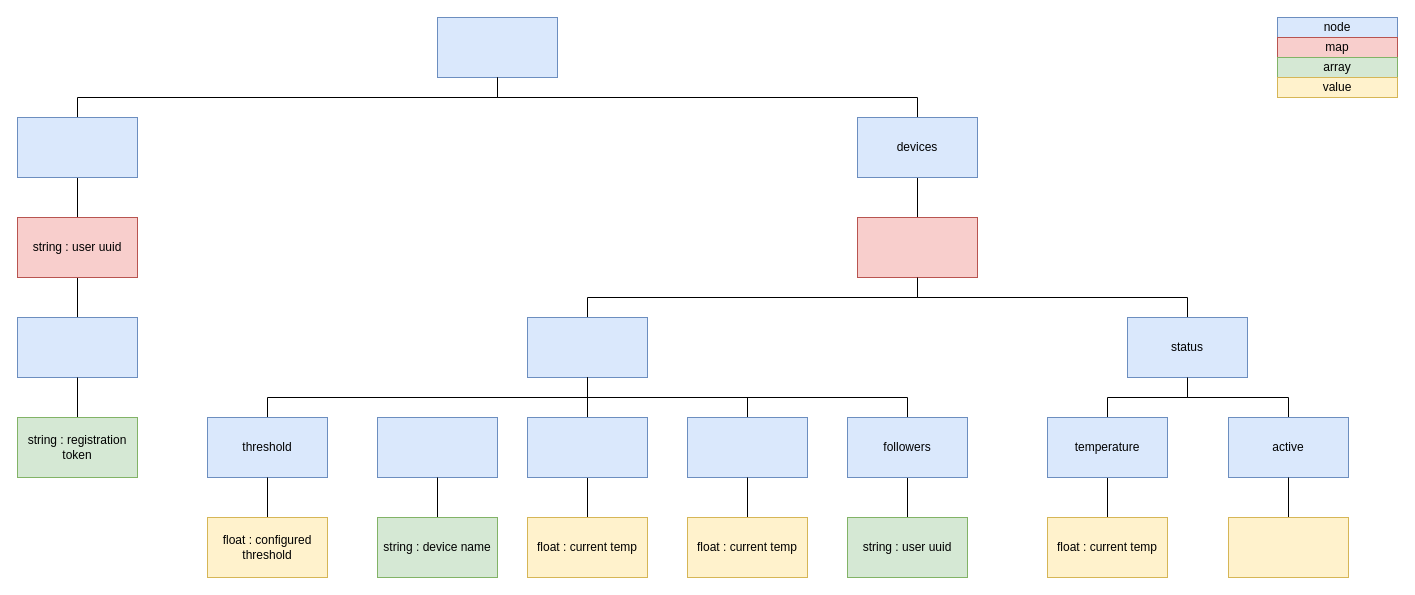
Some shapes in this 1415 by 595 pixel diagram are drawn without their labels. Each missing label, with the centre of its shape:
"bool : active now" belongs at point (1288, 547).
"configuration" belongs at point (587, 347).
"lat" belongs at point (587, 447).
"lon" belongs at point (747, 447).
"name" belongs at point (437, 447).
"root" belongs at point (497, 47).
"string: device uuid" belongs at point (917, 247).
"token" belongs at point (77, 347).
"users" belongs at point (77, 147).
